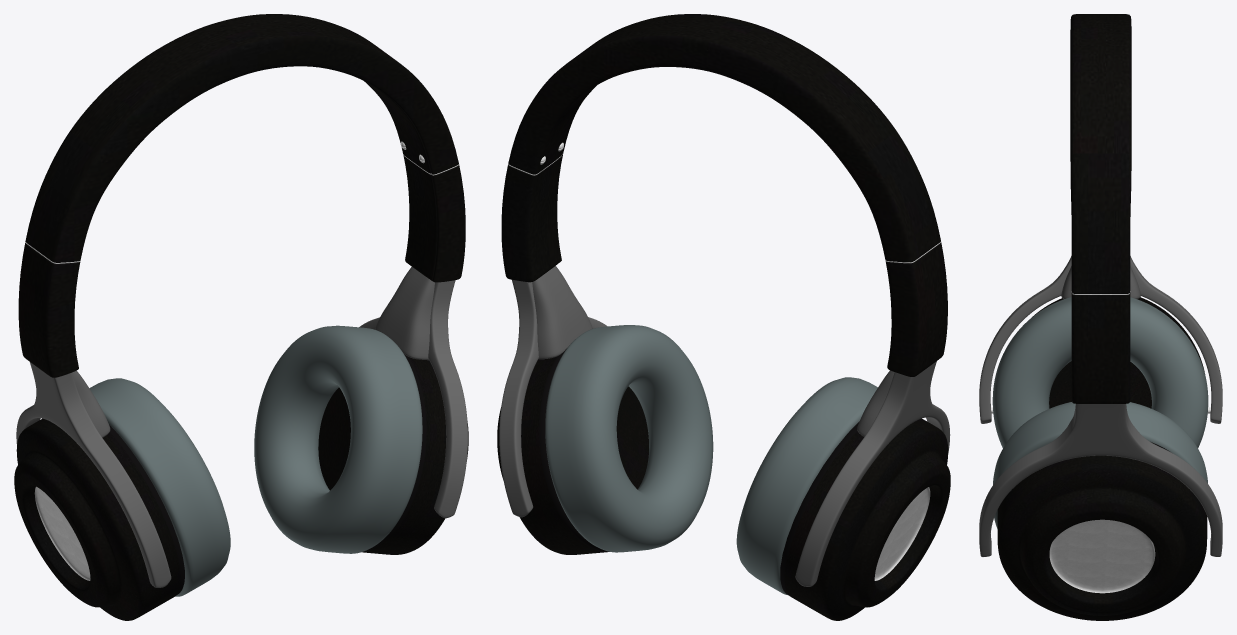
File: headphones3.glb
3 views of the same model, side by side, from view 1: azimuth 30°, elevation 25°; view 2: azimuth 150°, elevation 25°; view 3: azimuth 270°, elevation 25° (orthographic). The views are drawn at different scales.
Visible parts, largest first — view 1: plastic band, Ear piece rubber, Ear piece plastic, Plastic holder, Cube.001; view 2: plastic band, Ear piece rubber, Ear piece plastic, Plastic holder, Cube.001; view 3: Ear piece plastic, plastic band, Ear piece rubber, Plastic holder, Cube.001.
Part boxes in pixels (x1,y1,x2,y2): plastic band: (18,14,465,377); Ear piece rubber: (89,325,422,596); Ear piece plastic: (14,354,468,620); Plastic holder: (16,280,467,587); Cube.001: (72,267,434,437); plastic band: (501,14,947,376); Ear piece rubber: (545,325,877,594); Ear piece plastic: (497,348,950,620); Plastic holder: (499,279,950,586); Cube.001: (532,266,894,436); Ear piece plastic: (997,297,1207,620); plastic band: (1070,14,1131,403); Ear piece rubber: (992,297,1208,528); Plastic holder: (979,256,1222,556); Cube.001: (1061,266,1140,425).
Size of the model in its own units: 4.78 by 5.98 by 2.52.
7 materials, 3 textured.
